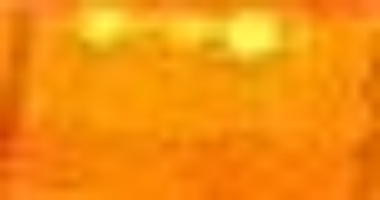Hotspot: (57, 3, 299, 60)
